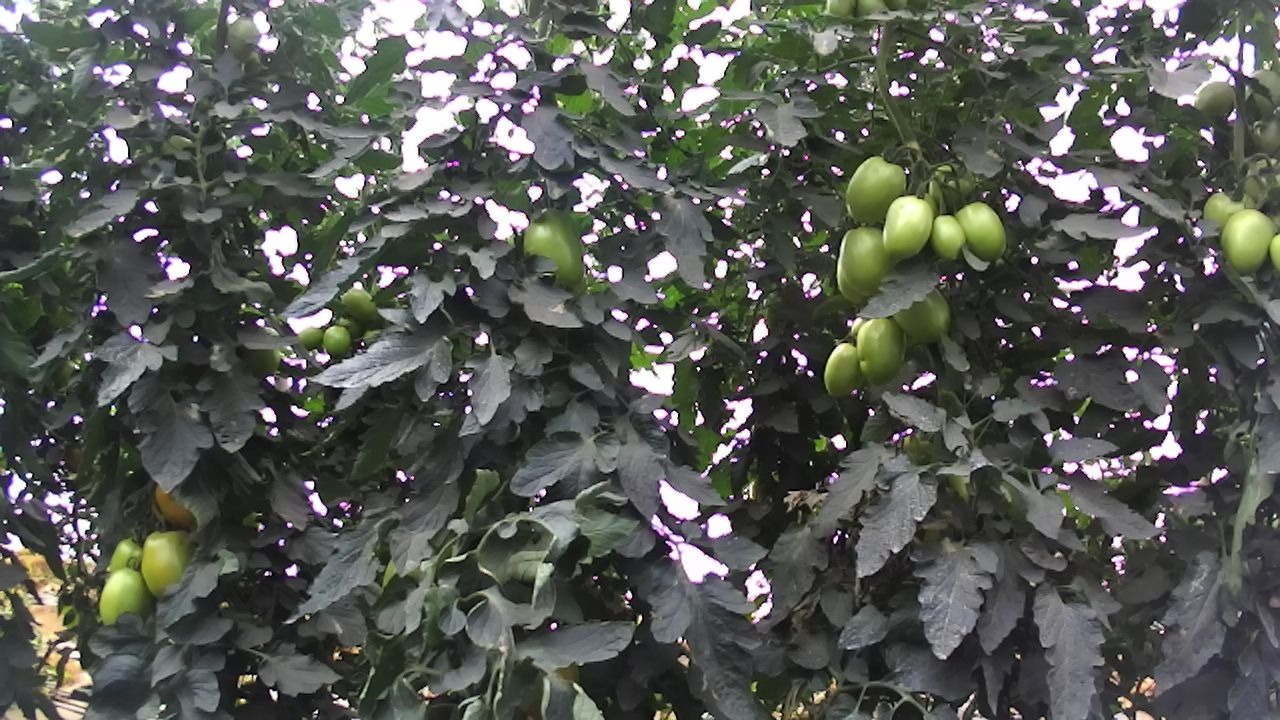tomato: (516, 207, 588, 289), (840, 151, 911, 226), (833, 223, 898, 299), (136, 525, 195, 601), (887, 283, 954, 346), (1219, 205, 1278, 276), (852, 311, 907, 386), (951, 198, 1010, 264), (880, 193, 937, 261), (96, 564, 151, 634), (820, 340, 865, 401), (1188, 76, 1241, 124), (926, 213, 968, 262), (337, 286, 382, 326), (106, 534, 145, 576), (322, 322, 353, 358)
